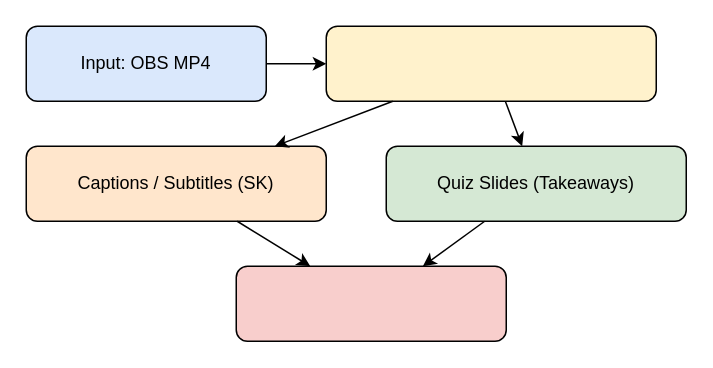
This 713x368 diagram has some shape labels left out. Here are the shapes that lost their labels. From the top down, the centre of each, then its label:
point (490, 63): Timeline: Split by Beep markers
point (370, 303): Export: MP4 / HTML5
